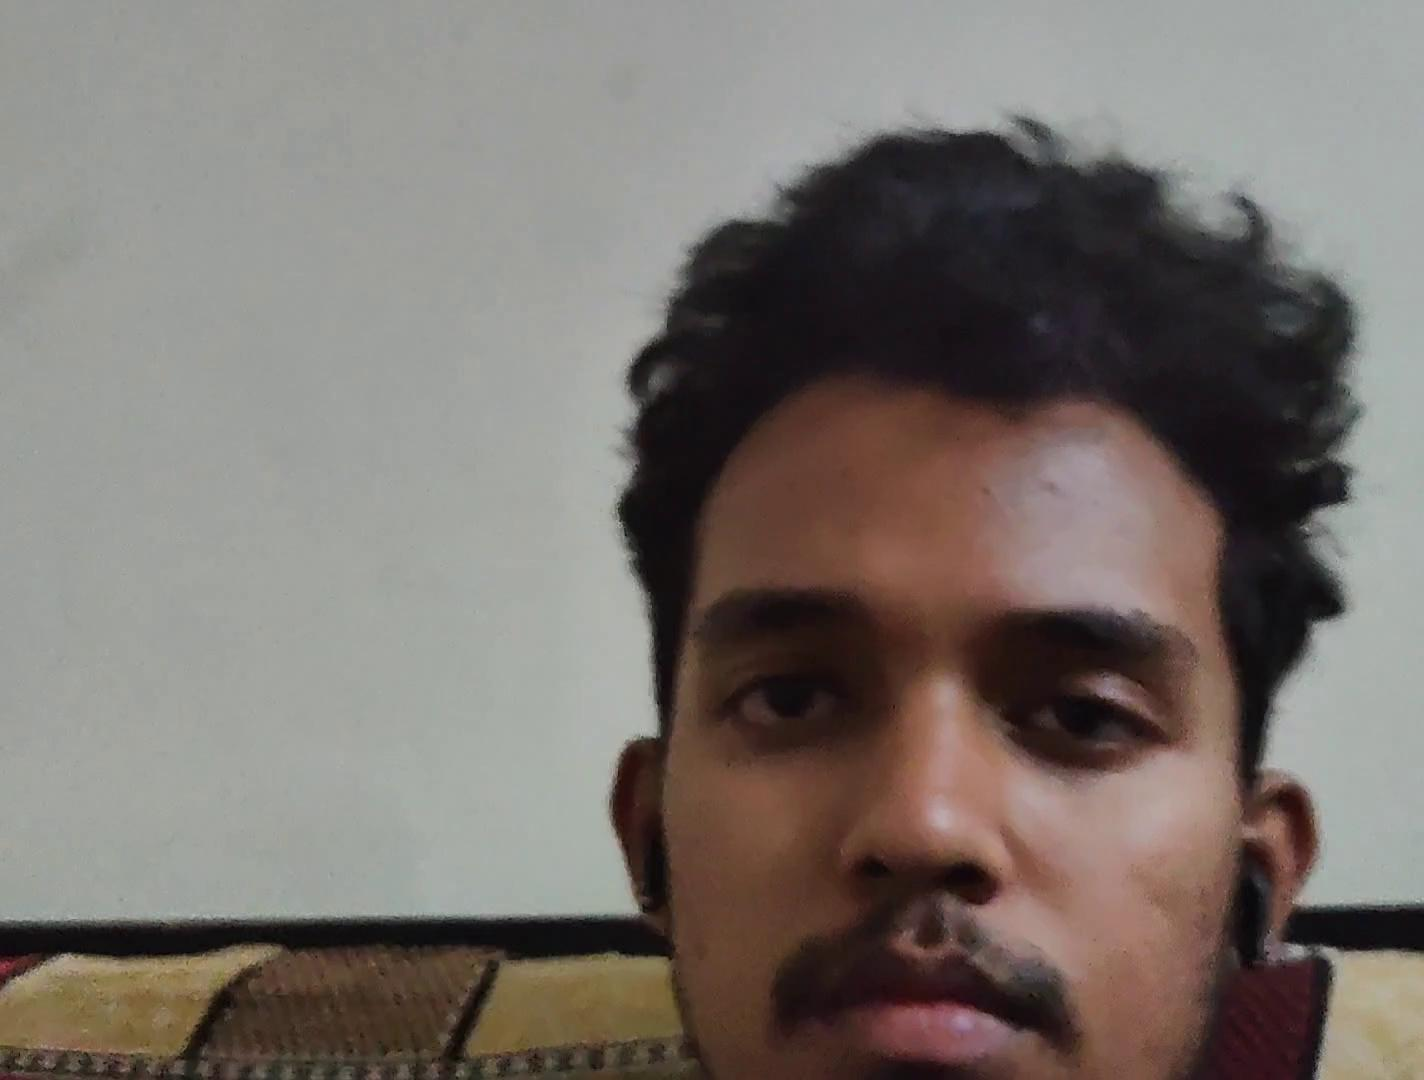face: (660, 384, 1246, 1078)
